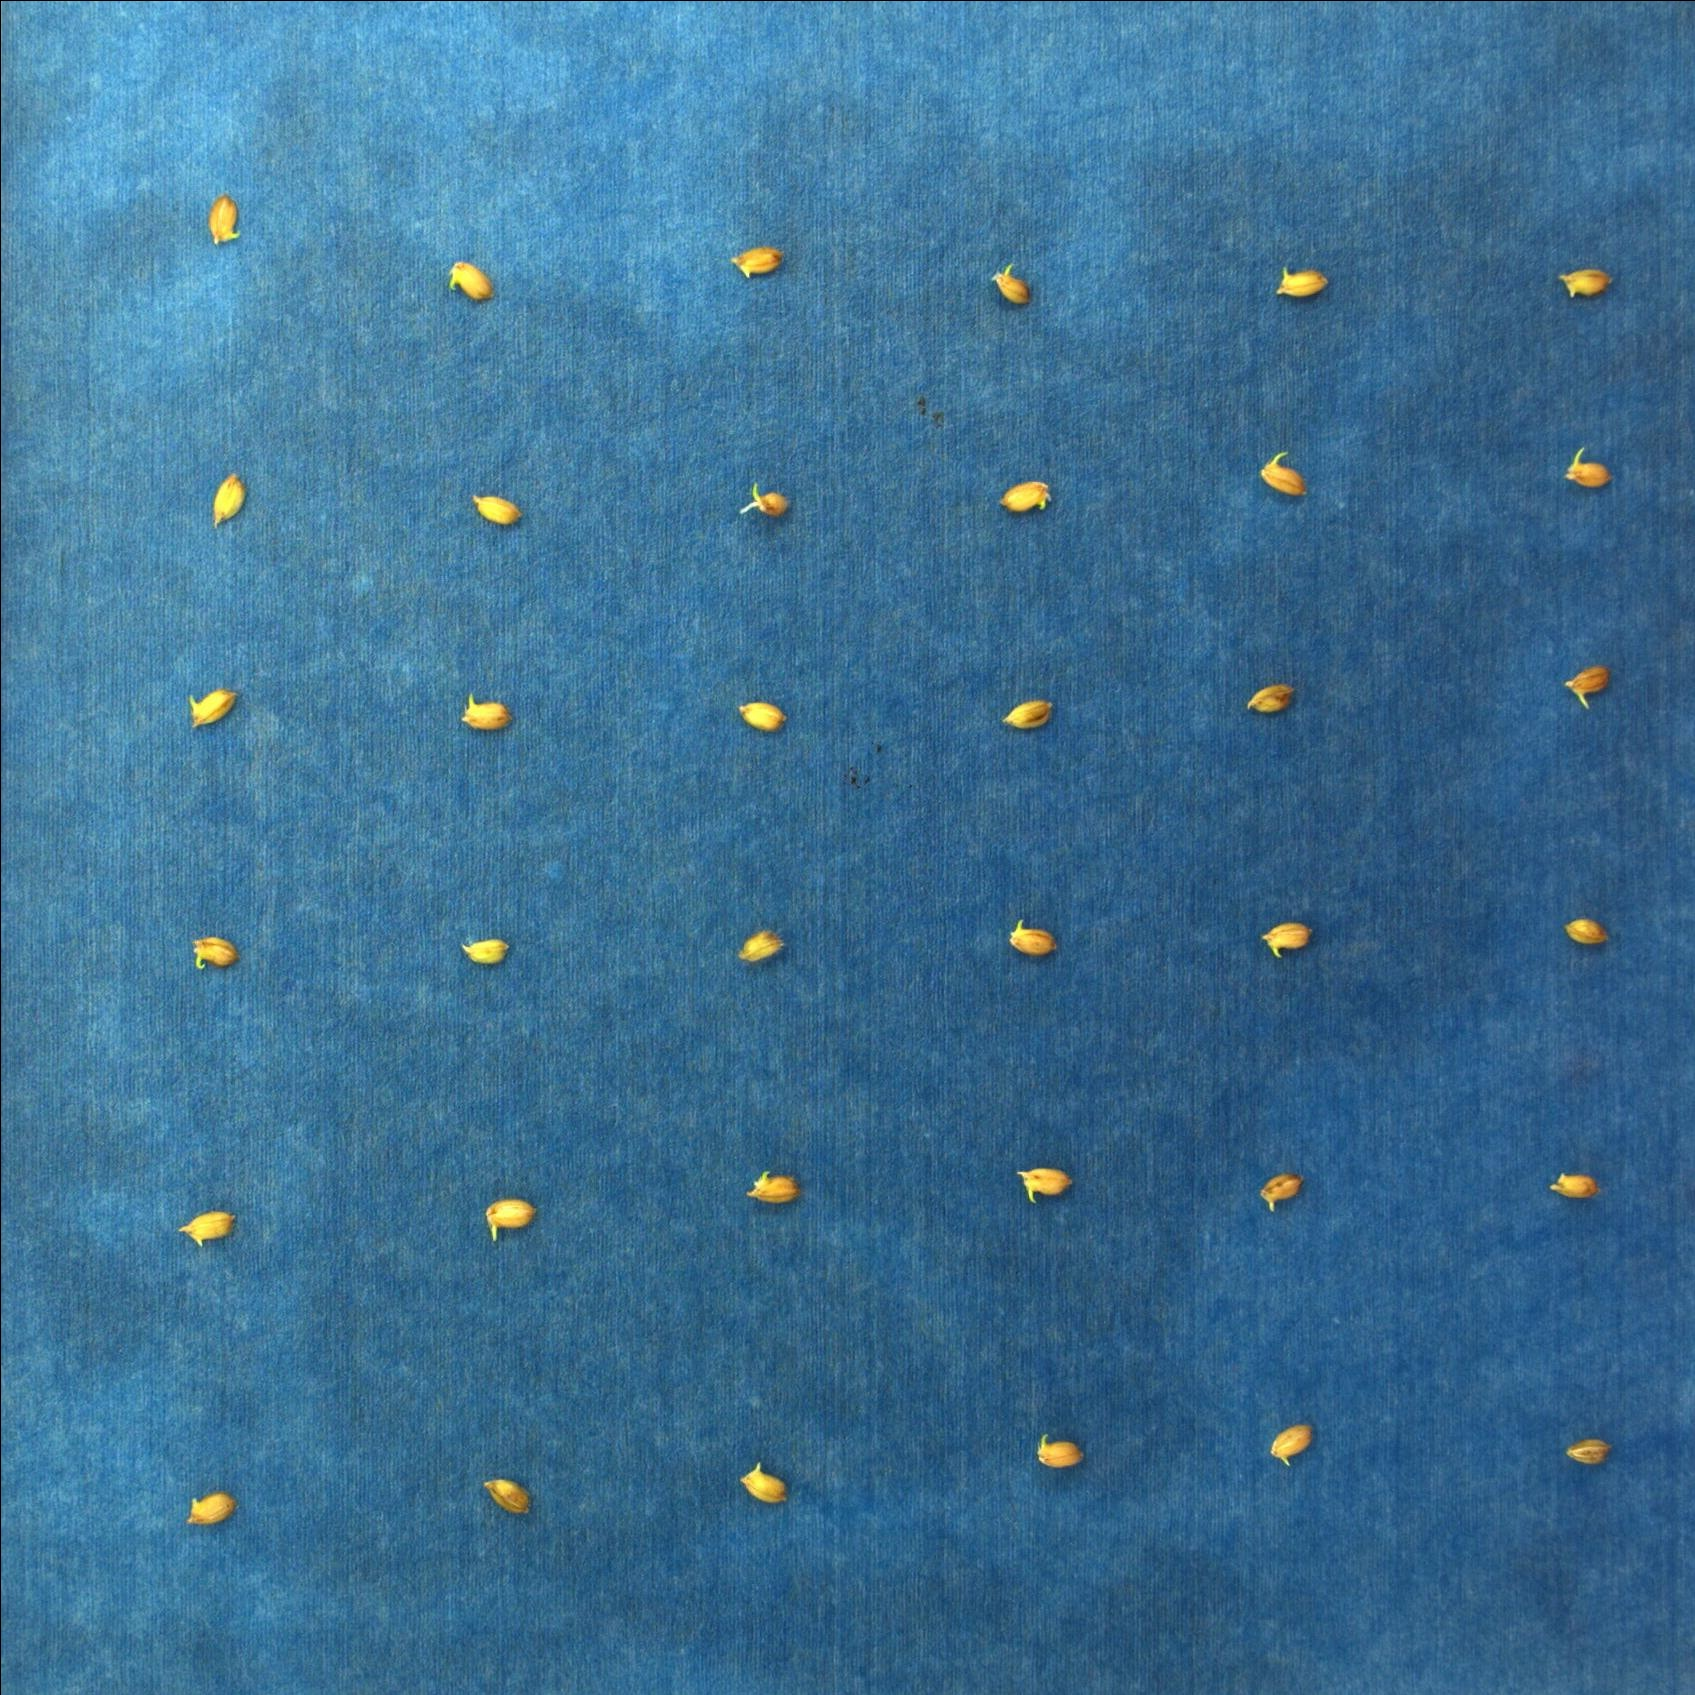not sprout: (723, 241, 784, 282), (445, 255, 490, 307), (172, 1211, 237, 1246), (183, 691, 241, 731), (459, 692, 515, 733), (1560, 449, 1613, 490), (1259, 452, 1305, 498), (481, 1478, 537, 1516), (467, 495, 528, 531), (1018, 1166, 1074, 1203), (1000, 697, 1057, 733), (206, 196, 245, 248), (186, 931, 239, 970), (734, 927, 790, 962), (486, 1203, 539, 1240), (1558, 269, 1613, 304), (210, 473, 245, 528), (737, 1464, 782, 1506), (992, 258, 1031, 306), (1271, 1419, 1310, 1467), (1006, 919, 1057, 955), (997, 480, 1051, 512), (737, 483, 789, 517), (1260, 924, 1312, 958), (748, 1170, 796, 1206), (1271, 265, 1329, 293), (1038, 1433, 1085, 1467), (1259, 1173, 1301, 1211), (1246, 683, 1291, 717), (186, 1495, 234, 1526), (737, 703, 787, 733), (458, 939, 512, 965), (1566, 917, 1614, 947), (1568, 1434, 1607, 1467), (1551, 1172, 1593, 1200)
sprout: (1558, 664, 1613, 709)
